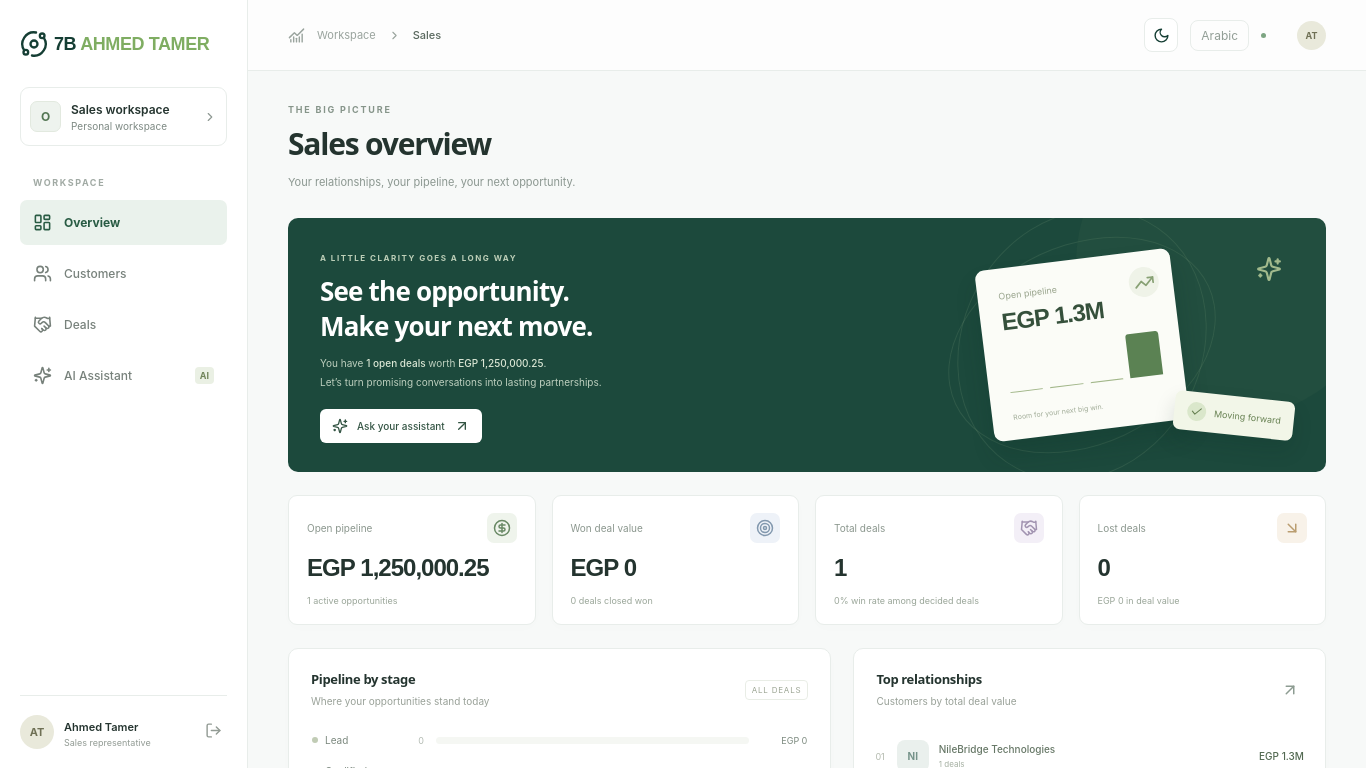
it: workspace integration › returns to login and removes private query data on logout
Expected: the heading "Sales overview" is shown, [288,123,491,164]
What coordinates should you click on to do the following:
click the button named "Sign out"
I would click on:
 (214, 732)
Its box is [200,717,227,747].
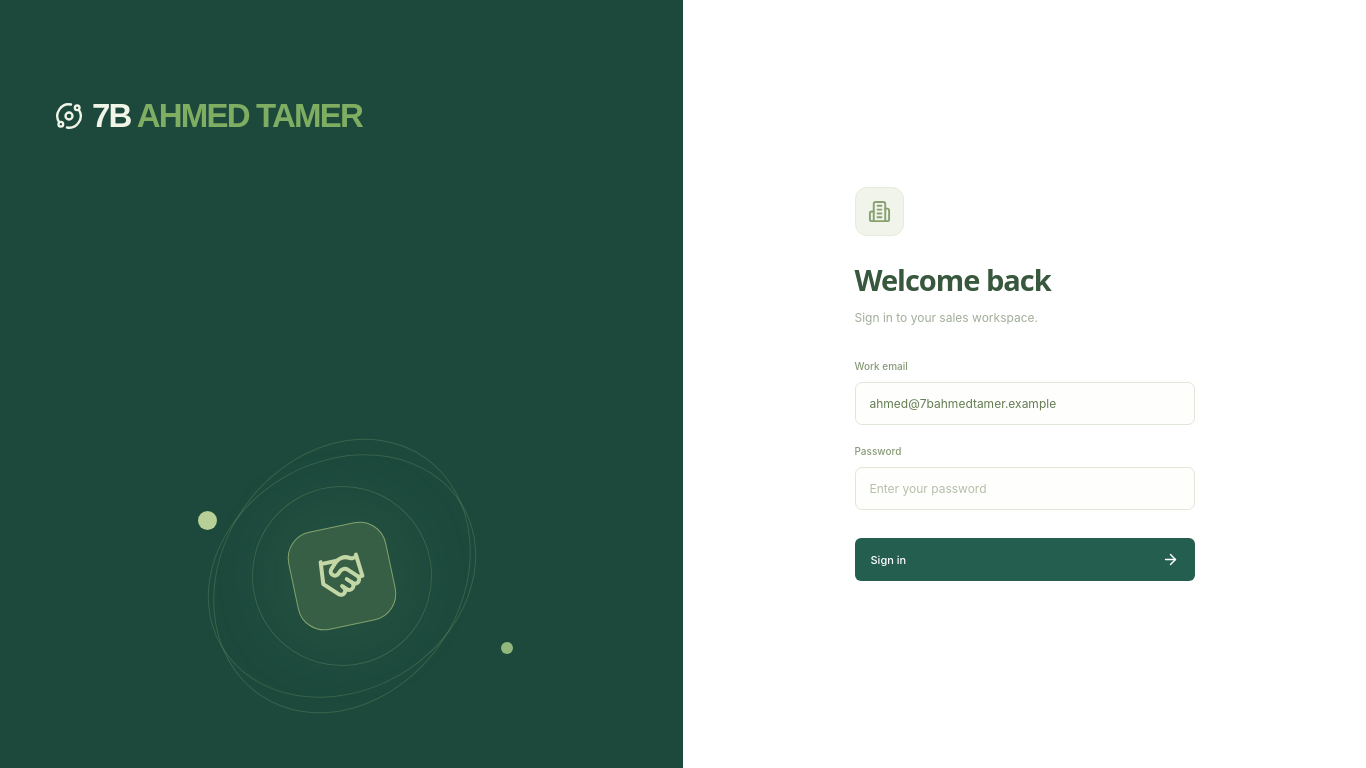
Now the heading "Welcome back" is shown, box [854,260,1051,299]
Now the heading "Sales overview" is gone
